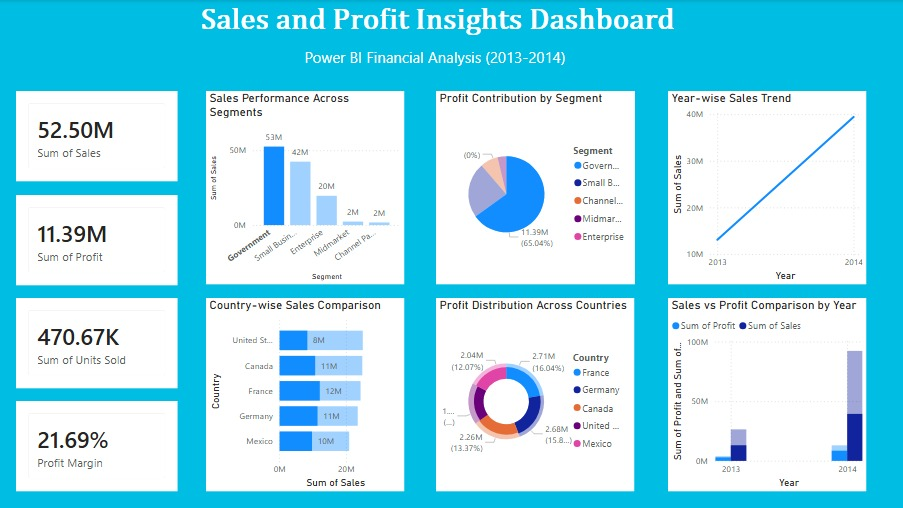

Layout of this report page (visuals, bound fields, positions):
{"tool":"powerbi","page":{"name":"Page 1","canvas":[1280,720],"ordinal":0},"visuals":[{"type":"cardVisual","fields":{"Data":["Sum(financials.Sales)"]},"box":[24.1,129.3,229.3,127.6],"z":0},{"type":"cardVisual","fields":{"Data":["Sum(financials.Profit)"]},"box":[24.1,275.9,229.3,127.6],"z":1000},{"type":"cardVisual","fields":{"Data":["Sum(financials.Units Sold)"]},"box":[24.1,422.4,229.3,127.6],"z":2000},{"type":"cardVisual","fields":{"Data":["financials.Profit Margin"]},"box":[24.1,569,229.3,127.6],"z":3000},{"type":"columnChart","title":"Sales Performance Across Segments ","fields":{"Category":["financials.Segment"],"Y":["Sum(financials.Sales)"]},"box":[293.1,129.3,281,274.1],"z":4000},{"type":"pieChart","title":" Profit Contribution by Segment","fields":{"Category":["financials.Segment"],"Y":["Sum(financials.Profit)"]},"box":[620,129.2,281.5,273.8],"z":5000},{"type":"lineChart","title":"Year-wise Sales Trend ","fields":{"Category":["financials.Year"],"Y":["Sum(financials.Sales)"]},"box":[948.3,129.3,281,274.1],"z":6000},{"type":"barChart","title":"Country-wise Sales Comparison ","fields":{"Category":["financials.Country"],"Y":["Sum(financials.Sales)"]},"box":[293.1,422.4,281,274.1],"z":7000},{"type":"donutChart","title":"Profit Distribution Across Countries ","fields":{"Y":["Sum(financials.Profit)"],"Category":["financials.Country","financials.Segment"]},"box":[619,422.4,281,274.1],"z":8000},{"type":"clusteredColumnChart","title":"Sales vs Profit Comparison by Year","fields":{"Y":["Sum(financials.Profit)","Sum(financials.Sales)"],"Category":["financials.Year"]},"box":[948.3,422.4,281,274.1],"z":9000},{"type":"textbox","box":[275.9,0,689.7,72.4],"z":10000},{"type":"textbox","box":[419,60.3,396.6,50],"z":10001}]}

Visuals, with their boxes in screenshot pixels (x1, y1, x2, y2), scaled from the page's 1280x720 canvas onto the 903x508 screenshot:
cardVisual - Sum(financials.Sales): left=17, top=91, right=179, bottom=181
cardVisual - Sum(financials.Profit): left=17, top=195, right=179, bottom=285
cardVisual - Sum(financials.Units Sold): left=17, top=298, right=179, bottom=388
cardVisual - financials.Profit Margin: left=17, top=401, right=179, bottom=491
"Sales Performance Across Segments " columnChart: left=207, top=91, right=405, bottom=285
" Profit Contribution by Segment" pieChart: left=437, top=91, right=636, bottom=284
"Year-wise Sales Trend " lineChart: left=669, top=91, right=867, bottom=285
"Country-wise Sales Comparison " barChart: left=207, top=298, right=405, bottom=491
"Profit Distribution Across Countries " donutChart: left=437, top=298, right=635, bottom=491
"Sales vs Profit Comparison by Year" clusteredColumnChart: left=669, top=298, right=867, bottom=491
textbox: left=195, top=0, right=681, bottom=51
textbox: left=296, top=43, right=575, bottom=78
